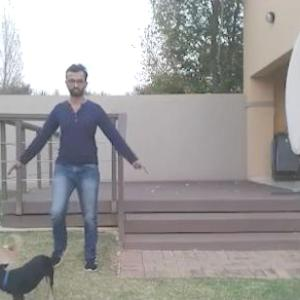land: (23, 68, 136, 265)
